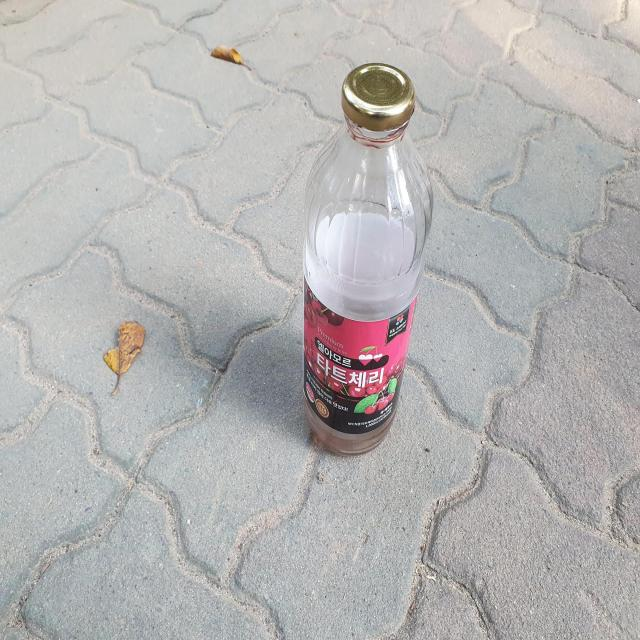glass: (303, 62, 433, 453)
